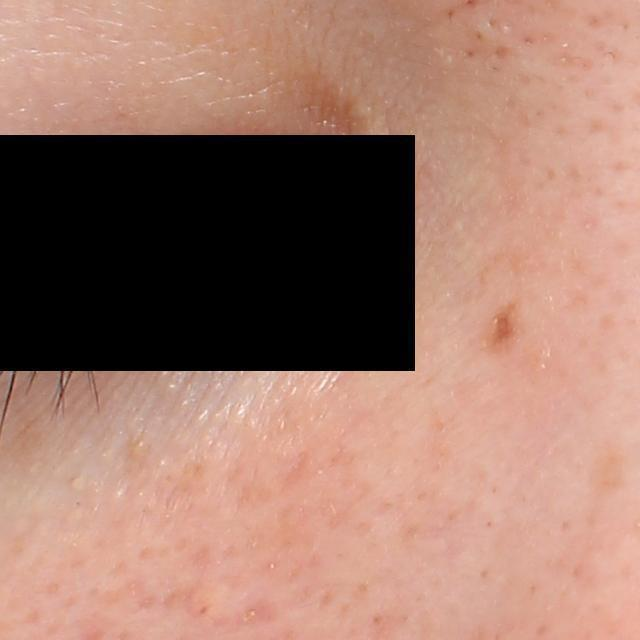nevus: (483, 296, 522, 361)
